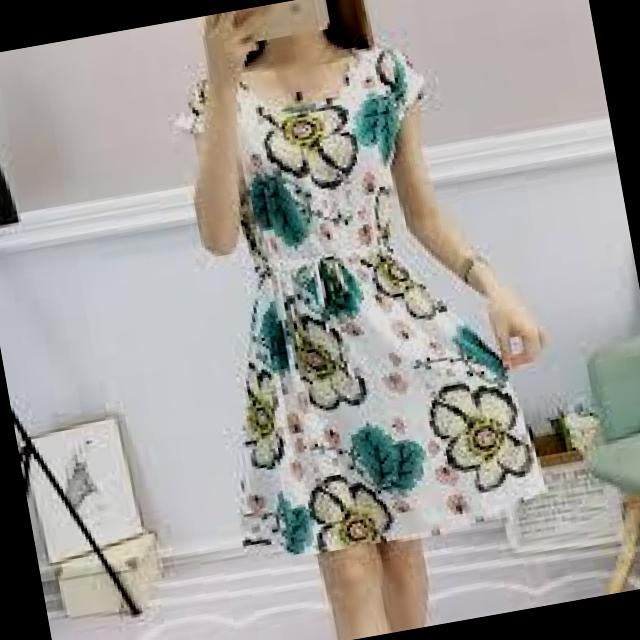dress: (144, 19, 572, 586)
